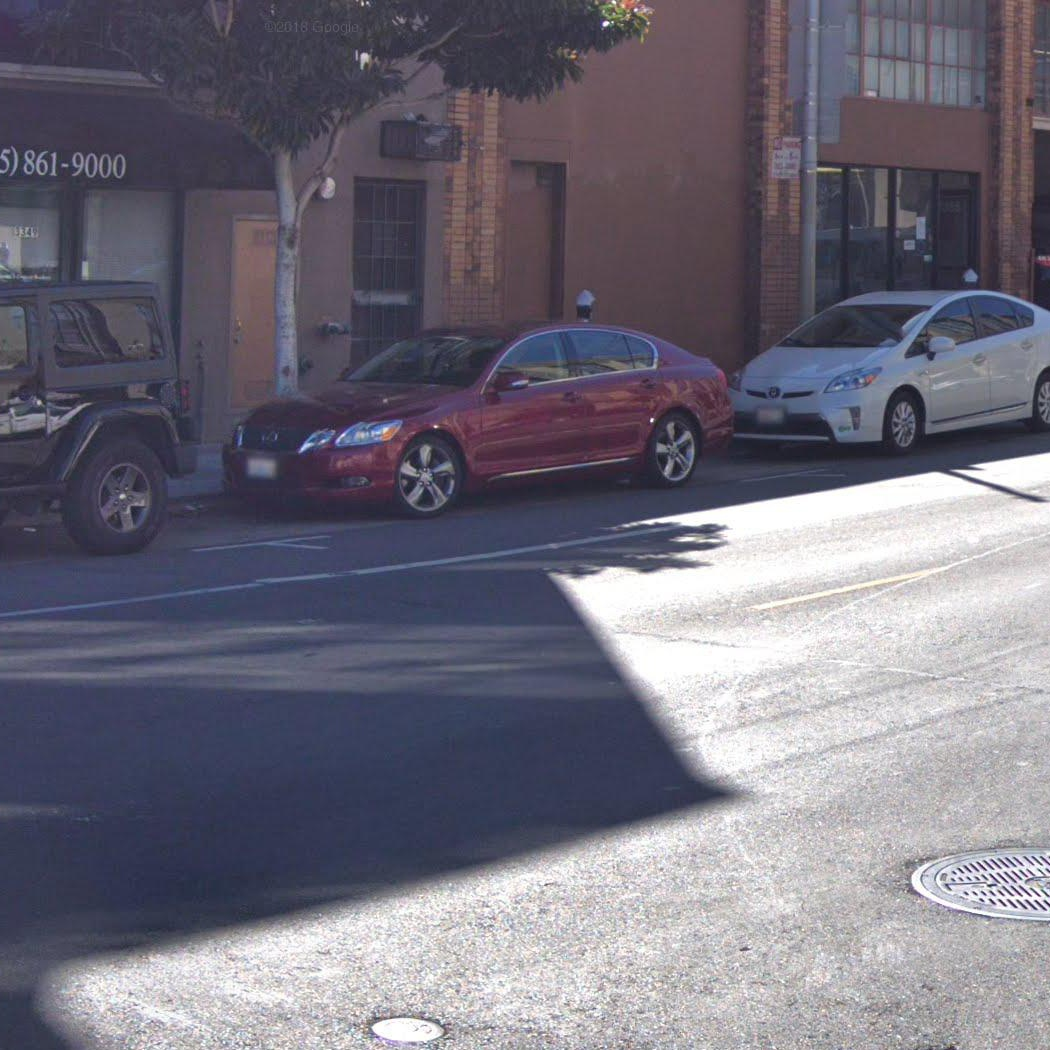No Parking: (769, 134, 804, 182)
